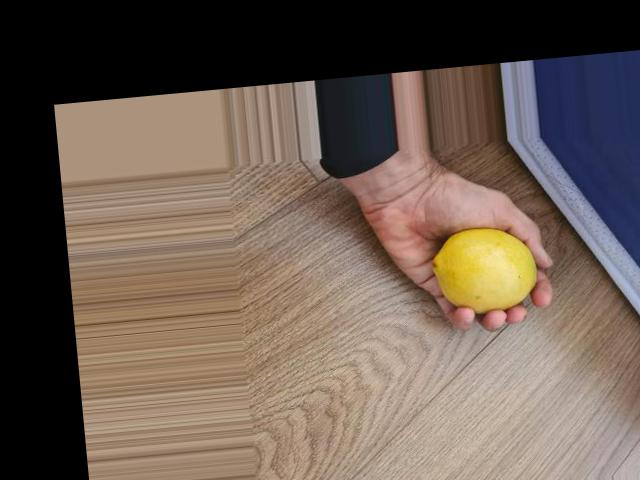lemon: (427, 224, 540, 320)
